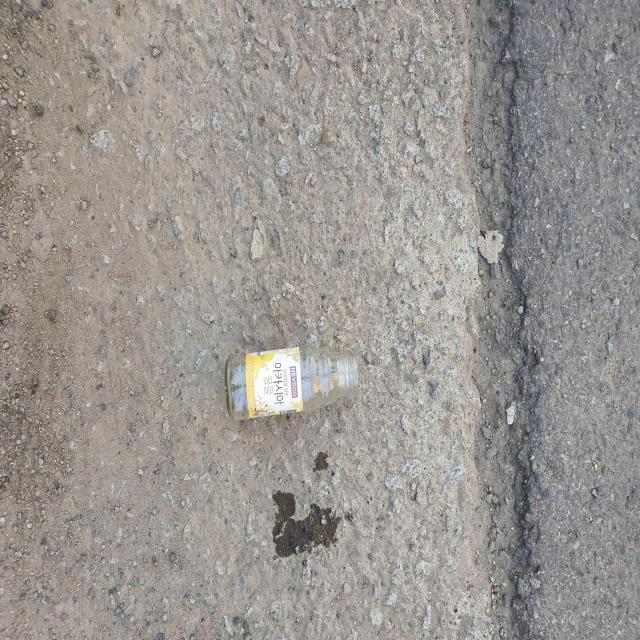glass: (225, 346, 358, 419)
